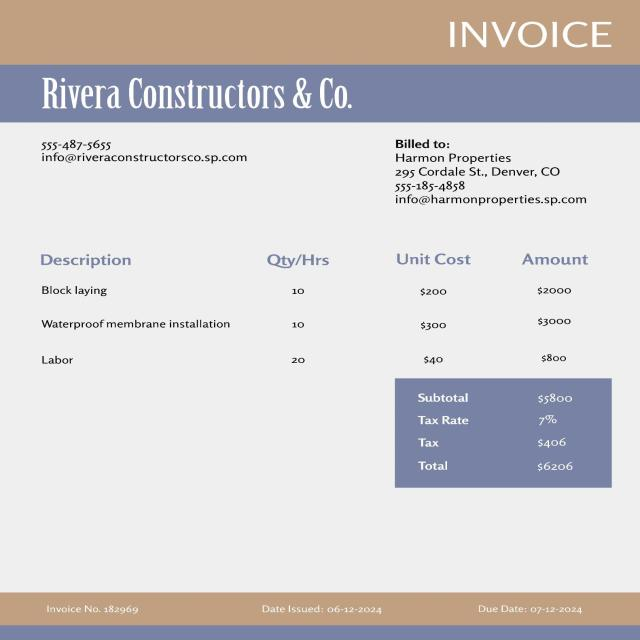paragraph: (407, 386, 591, 477), (389, 138, 600, 208), (41, 78, 362, 112), (29, 138, 257, 167), (450, 18, 618, 56), (472, 600, 596, 621), (256, 600, 388, 618), (44, 602, 141, 617)
table: (31, 247, 608, 373)
